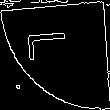L_E: (30, 37, 80, 73)
